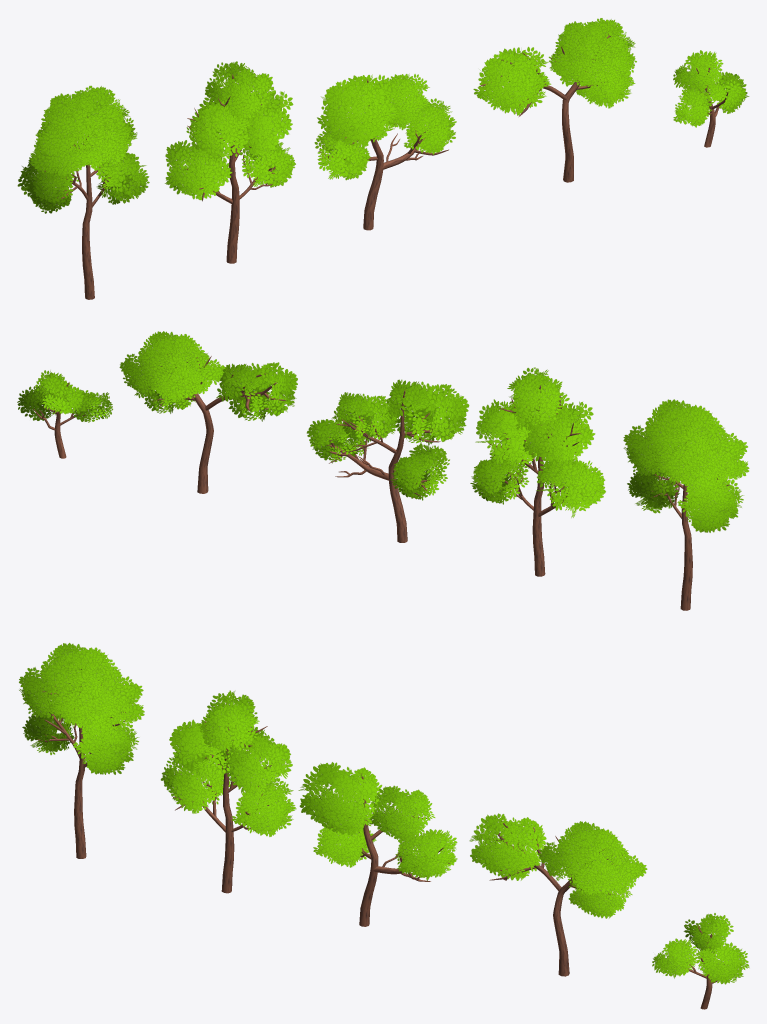
File: Trees.glb
3 renders of one model, top to bottom at view 1: azimuth 30°, elevation 25°; view 2: azimuth 150°, elevation 25°; view 3: azimuth 330°, elevation 25°, orthographic.
Visible parts, largest first — view 1: NormalTree_2, NormalTree_1, NormalTree_3, NormalTree_4, NormalTree_5; view 2: NormalTree_2, NormalTree_1, NormalTree_3, NormalTree_4, NormalTree_5; view 3: NormalTree_2, NormalTree_1, NormalTree_3, NormalTree_4, NormalTree_5.
Boxes of the visible parts, left/top/right/bottom form: NormalTree_2: left=165, top=61, right=295, bottom=263; NormalTree_1: left=17, top=85, right=149, bottom=299; NormalTree_3: left=314, top=74, right=456, bottom=230; NormalTree_4: left=473, top=18, right=636, bottom=182; NormalTree_5: left=673, top=50, right=749, bottom=147; NormalTree_2: left=470, top=367, right=605, bottom=576; NormalTree_1: left=623, top=399, right=749, bottom=610; NormalTree_3: left=306, top=379, right=469, bottom=542; NormalTree_4: left=119, top=331, right=297, bottom=493; NormalTree_5: left=17, top=370, right=112, bottom=458; NormalTree_2: left=160, top=690, right=296, bottom=893; NormalTree_1: left=19, top=643, right=144, bottom=858; NormalTree_3: left=298, top=762, right=457, bottom=926; NormalTree_4: left=469, top=813, right=647, bottom=976; NormalTree_5: left=652, top=913, right=749, bottom=1009.
Bounding box in the file's own units: 24.93 × 6.87 × 3.
2 materials, 2 textured.
